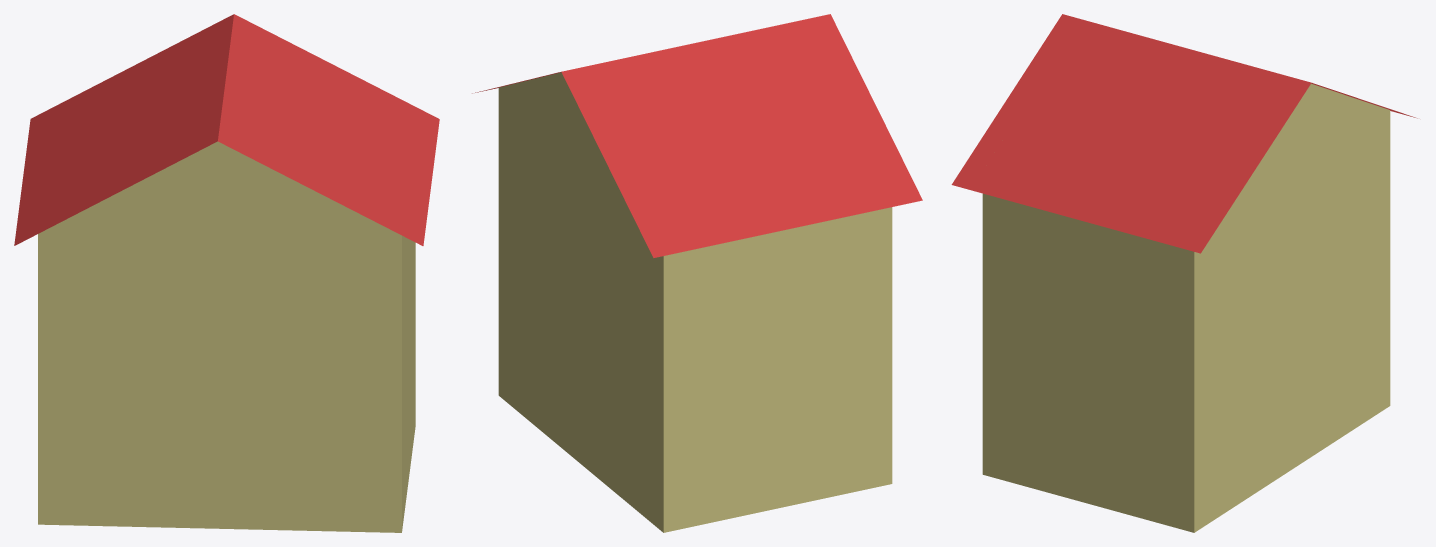
The picture shows the model from 3 angles, left to right: view 1: azimuth 30°, elevation 25°; view 2: azimuth 150°, elevation 25°; view 3: azimuth 270°, elevation 25°; orthographic projection.
Bounding box in the file's own units: 11.16 × 10.47 × 9.62.
